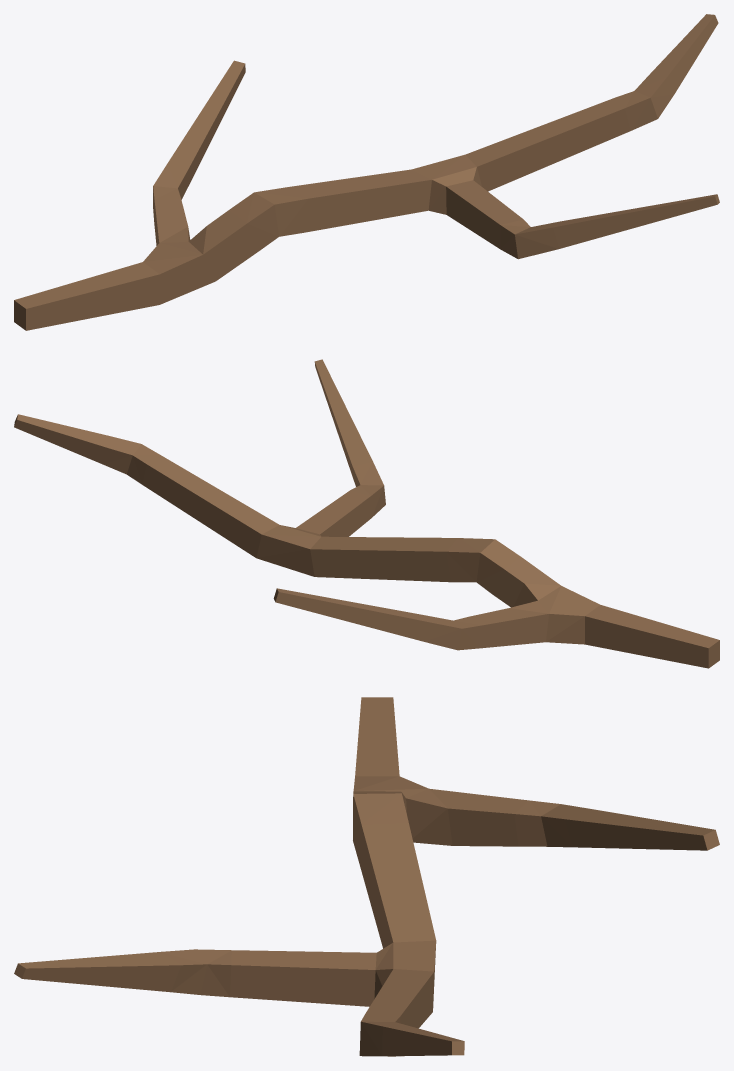
Rendered from tile.glb.
The picture shows the model from 3 angles, top to bottom: view 1: azimuth 30°, elevation 25°; view 2: azimuth 150°, elevation 25°; view 3: azimuth 270°, elevation 25°; orthographic projection. The views are drawn at different scales.
Parts seen in each view (by area): view 1: branch01; view 2: branch01; view 3: branch01.
Boxes of the visible parts, left/top/right/bottom form: branch01: left=14, top=14, right=719, bottom=330; branch01: left=14, top=359, right=719, bottom=668; branch01: left=14, top=697, right=719, bottom=1056.
Size of the model in its own units: 6.08 by 0.9499 by 3.88.
1 material, 1 textured.
